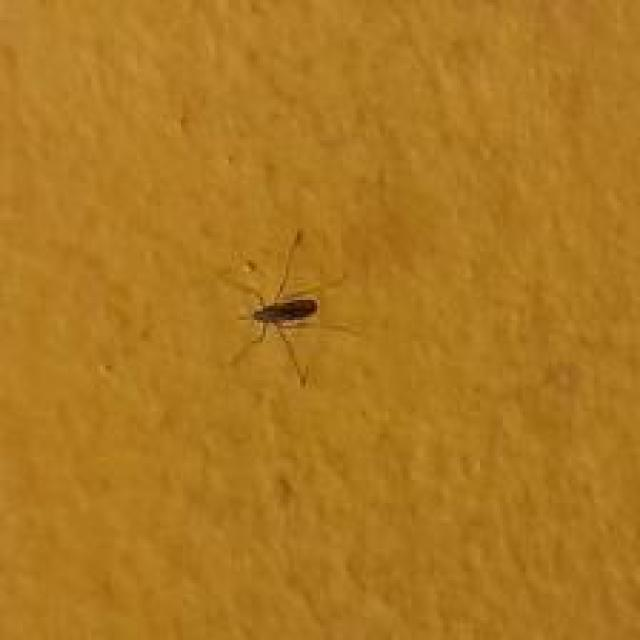Culex: (218, 225, 356, 388)
